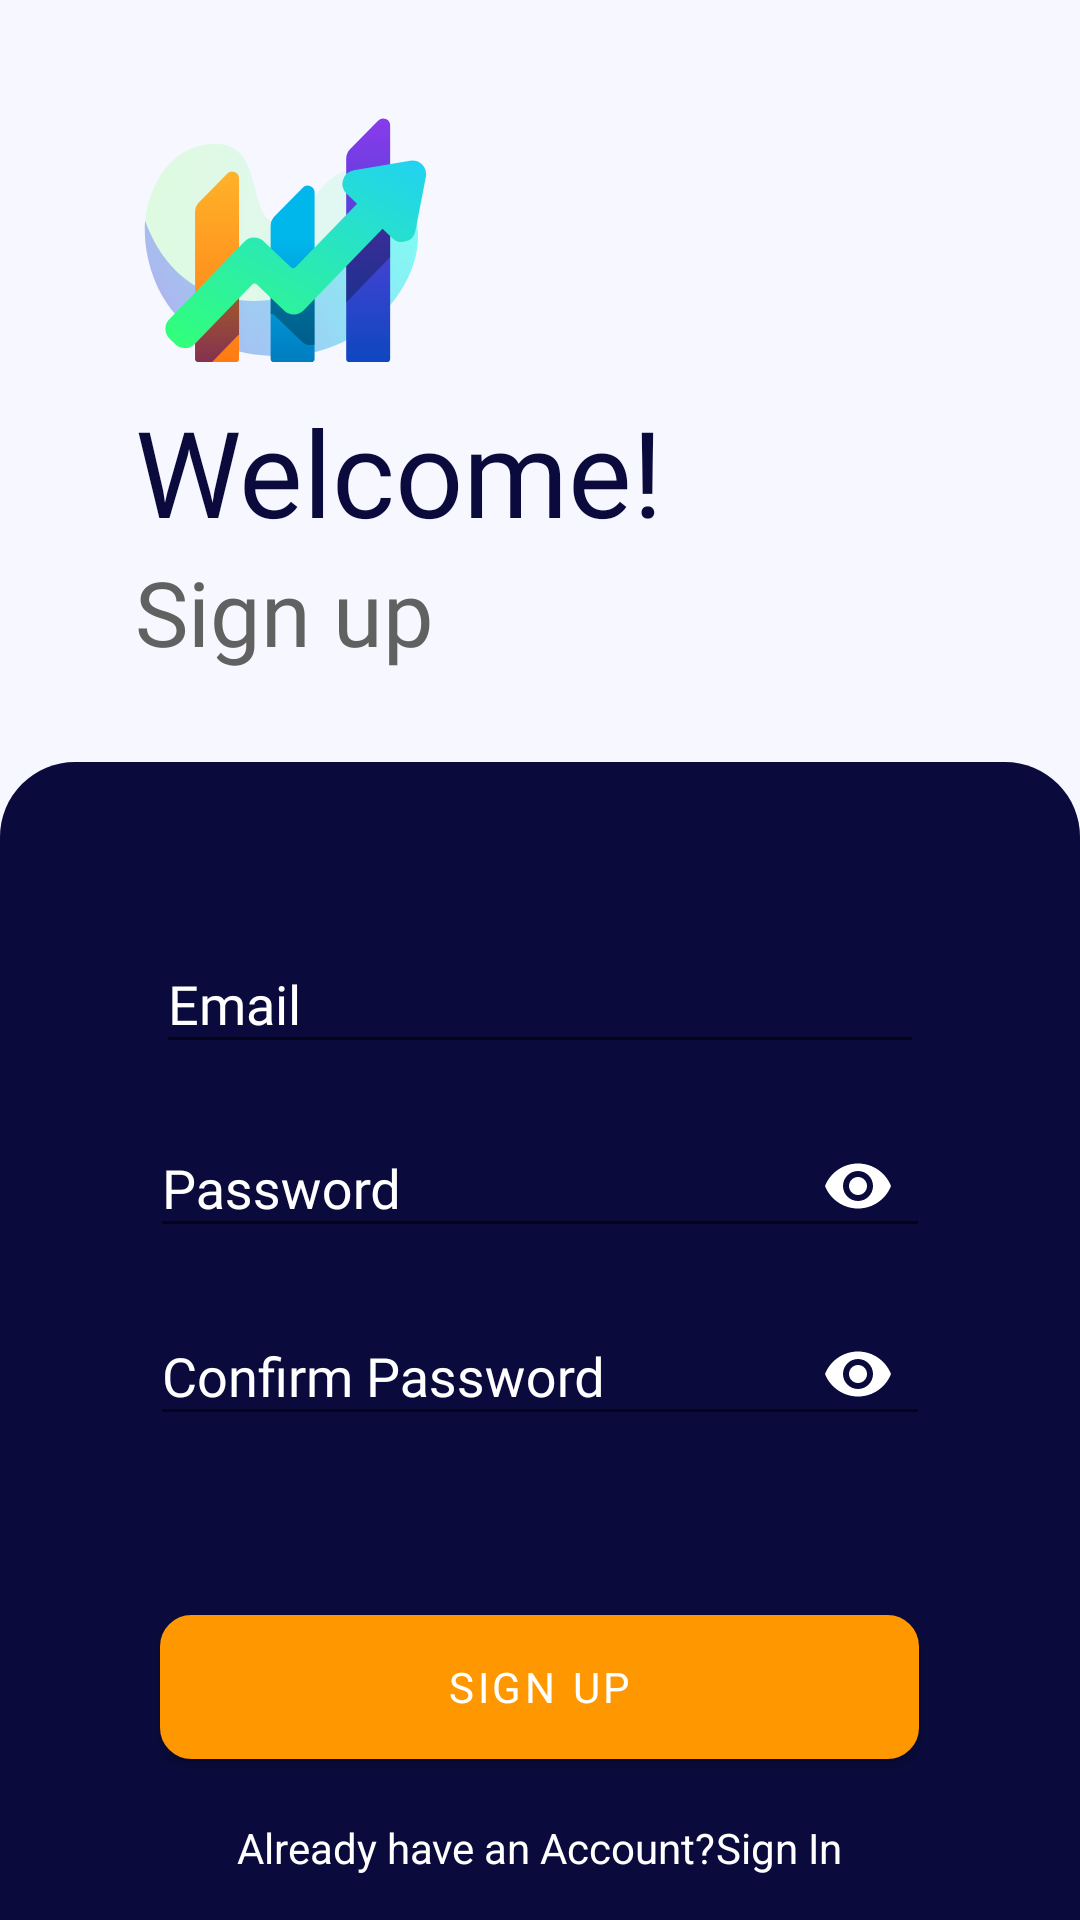

Where to tap for icons on this 1080w x 1920h app screen, as point (x, y):
chart: point (286, 240)
